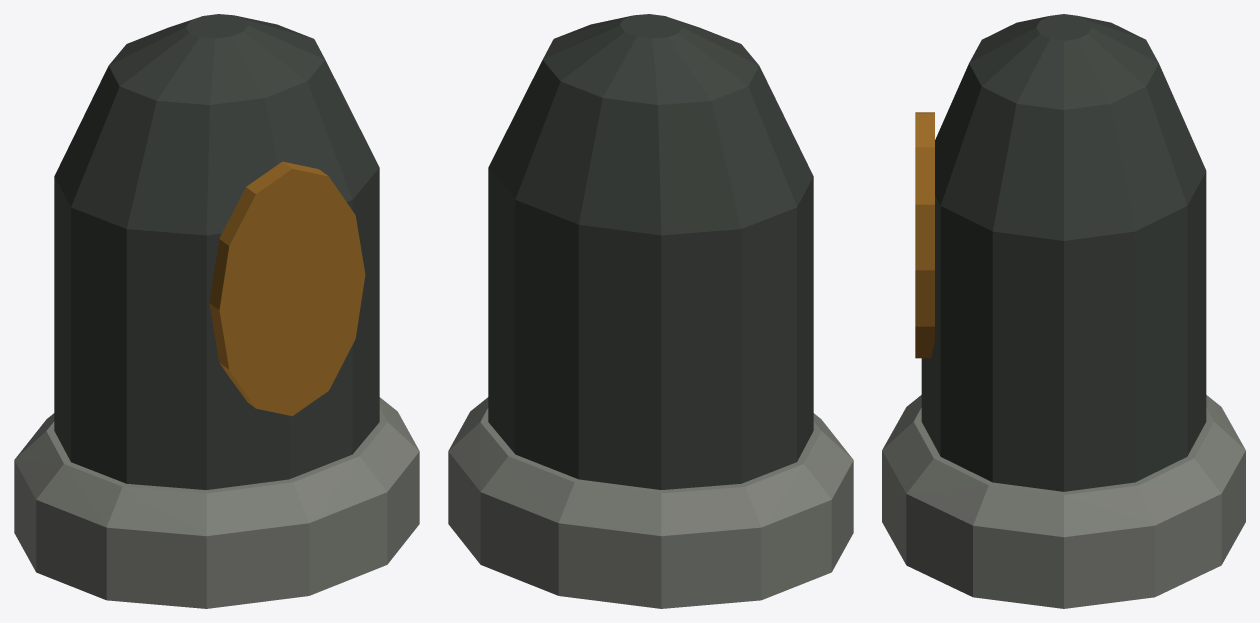
Rendered from proximity_detector.obj.
3 renders of one model, left to right at view 1: azimuth 30°, elevation 25°; view 2: azimuth 150°, elevation 25°; view 3: azimuth 270°, elevation 25°, orthographic.
Visible parts, largest first — view 1: proximity_detector; view 2: proximity_detector; view 3: proximity_detector.
Boxes of the visible parts, x1,y1,x2,y2 form: proximity_detector: (14, 14, 419, 608); proximity_detector: (448, 14, 853, 608); proximity_detector: (882, 14, 1245, 608).
Bounding box in the file's own units: 0.52 × 0.69 × 0.46.
